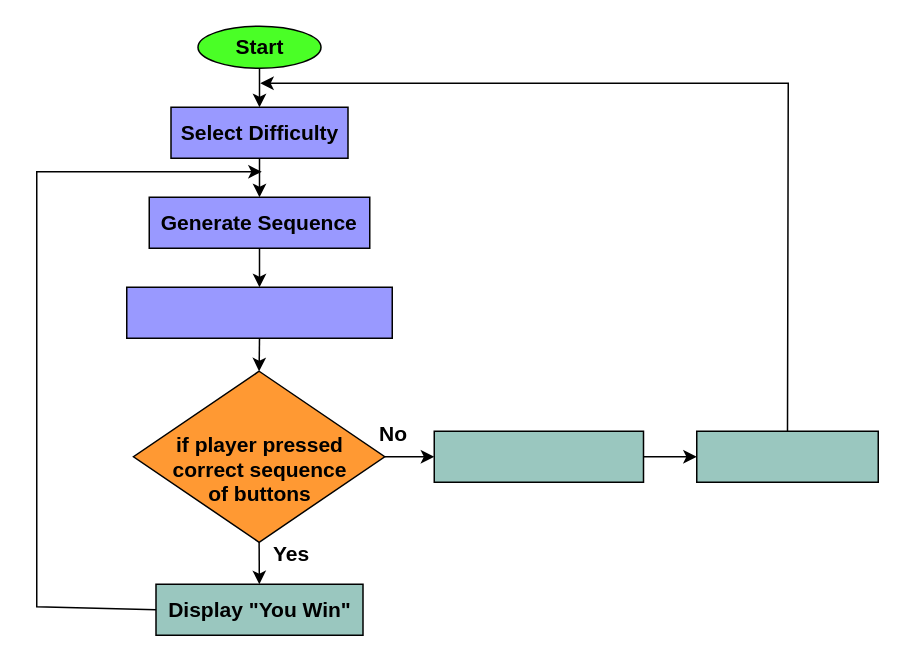
Some shapes in this 905 by 662 pixel diagram are drawn without their labels. The shapes that lost their labels are listed below. From the top down, each one's centre as x and y in pixels, then its label:
[258,312]: Display Pattern on LEDs
[538,456]: Display "You Lost"
[786,456]: Display "Score"
